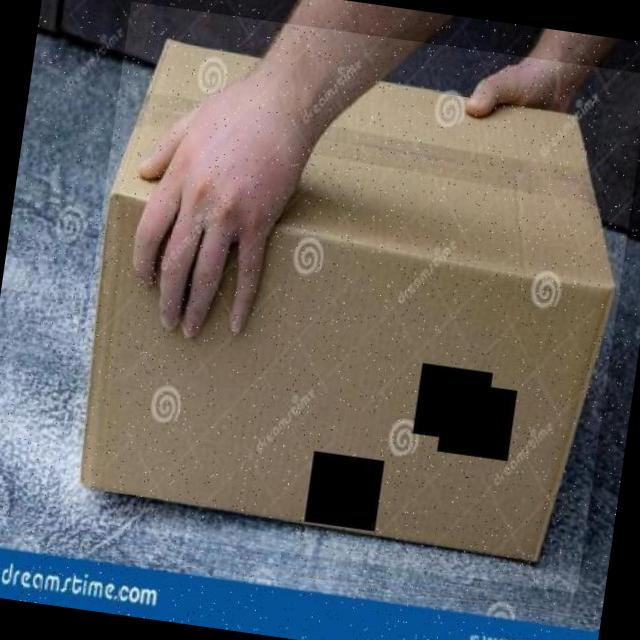box: (58, 2, 640, 595)
